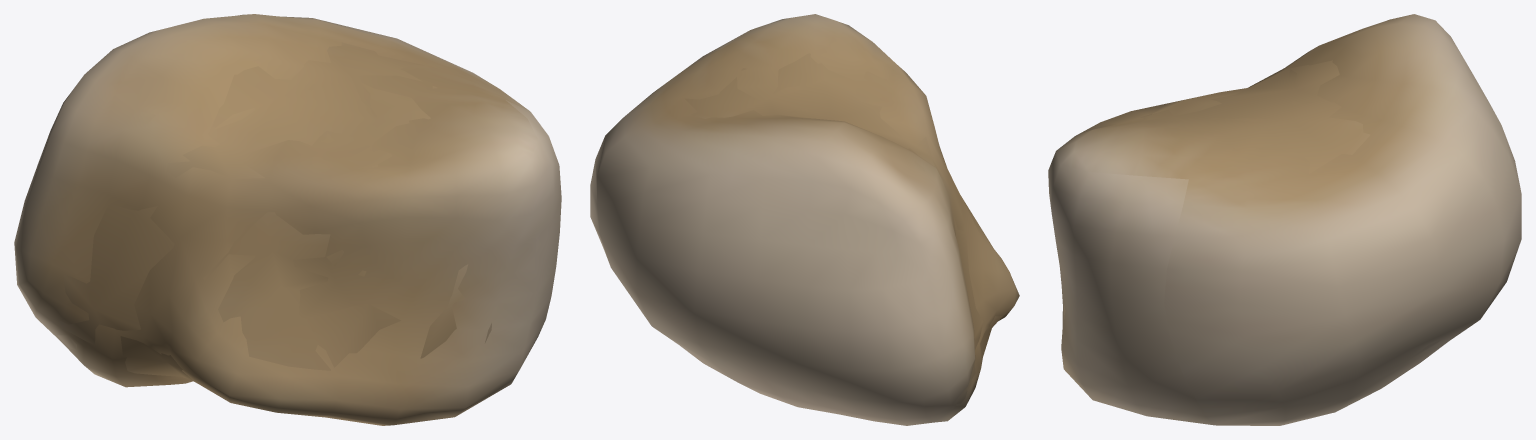
The model's file is L tarsi quartum.fbx.
3 renders of one model, left to right at view 1: azimuth 30°, elevation 25°; view 2: azimuth 150°, elevation 25°; view 3: azimuth 270°, elevation 25°, orthographic. The views are drawn at different scales.
Visible parts, largest first — view 1: L tarsi quartum, L tarsi quartum low; view 2: L tarsi quartum, L tarsi quartum low; view 3: L tarsi quartum, L tarsi quartum low.
Part boxes in pixels (x1=…): L tarsi quartum: x1=14, y1=14, x2=561, y2=425; L tarsi quartum low: x1=57, y1=42, x2=491, y2=382; L tarsi quartum: x1=590, y1=14, x2=1019, y2=425; L tarsi quartum low: x1=685, y1=53, x2=1002, y2=405; L tarsi quartum: x1=1048, y1=14, x2=1521, y2=425; L tarsi quartum low: x1=1063, y1=60, x2=1440, y2=380.
Size of the model in its own units: 4.74 by 3.15 by 4.38.
